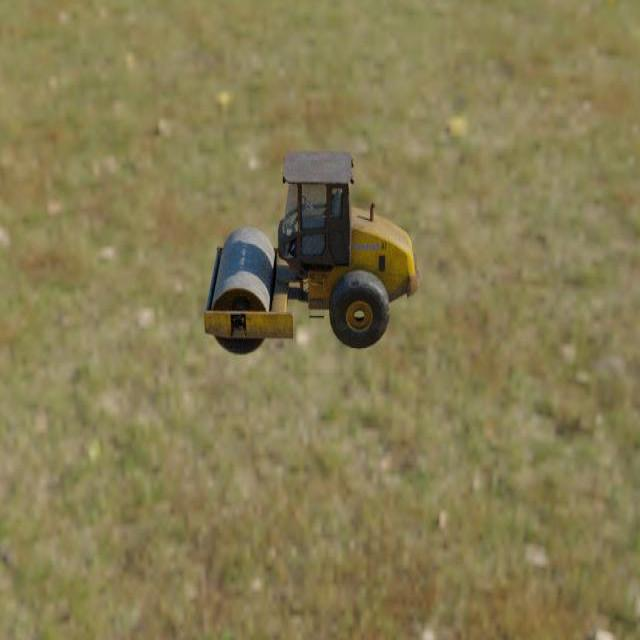Roller: (203, 149, 419, 355)
